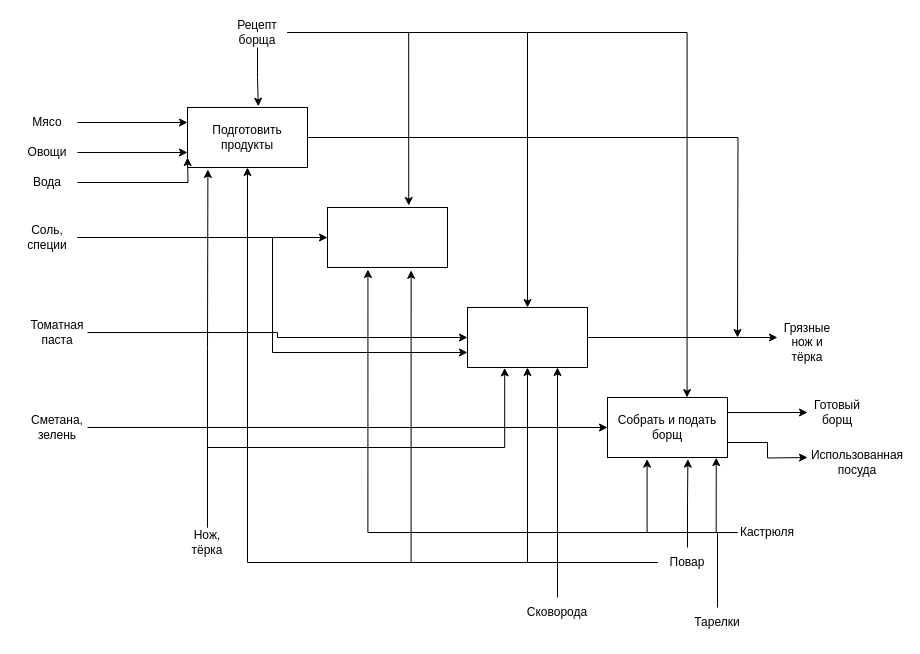
This 920x654 diagram has some shape labels left out. The centre of each missing label's shape, as x and y in pixels:
"Приготовить заправку" belongs at pixel 527 337.
"Сварить бульон и овощи" belongs at pixel 387 237.
